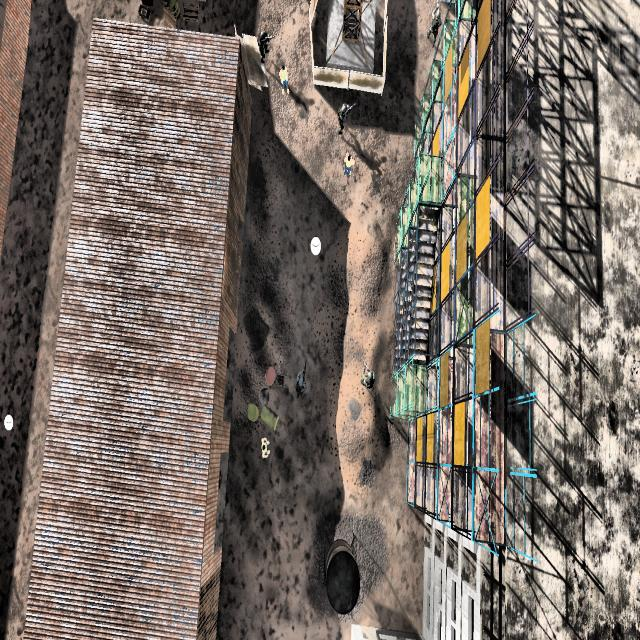bad: (353, 347, 382, 402), (332, 87, 355, 139), (292, 358, 313, 410), (427, 0, 443, 50), (255, 25, 273, 63)
good: (338, 141, 360, 186), (256, 430, 275, 470), (276, 59, 294, 101)
